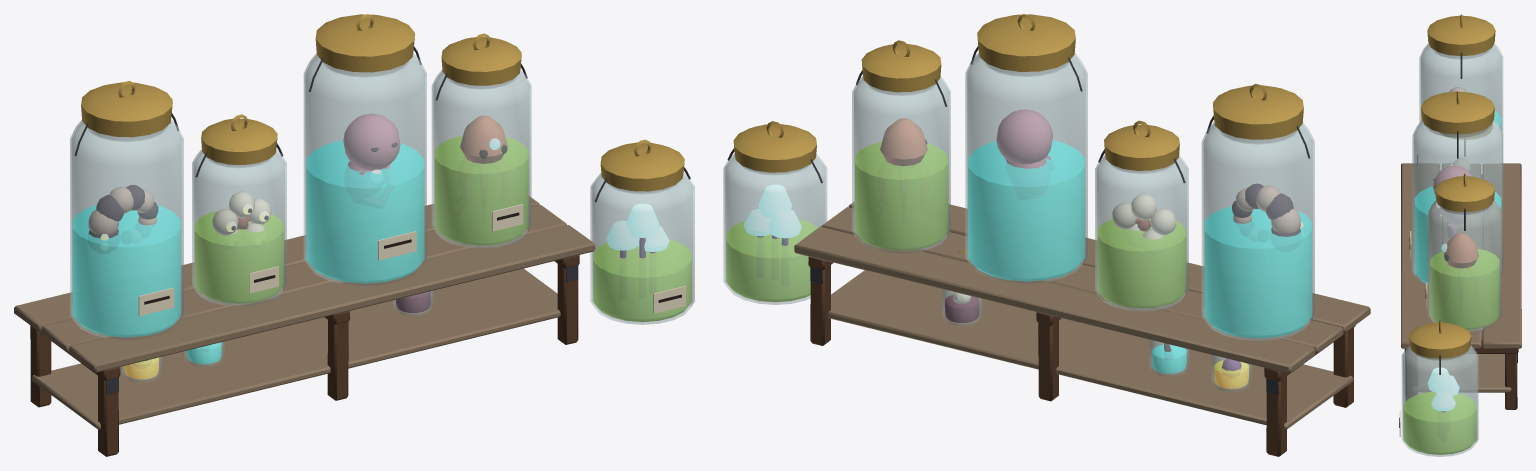
Rendered from deco_specimen_jars.fbx.
3 views of the same model, side by side, from view 1: azimuth 30°, elevation 25°; view 2: azimuth 150°, elevation 25°; view 3: azimuth 270°, elevation 25° (orthographic). The views are drawn at different scales.
Parts seen in each view (by area): view 1: SpecimenJars_Jars, SpecimenJars_Shelf, SpecimenJars_Liquids, SpecimenJars_Specimens; view 2: SpecimenJars_Jars, SpecimenJars_Shelf, SpecimenJars_Liquids, SpecimenJars_Specimens; view 3: SpecimenJars_Jars, SpecimenJars_Shelf, SpecimenJars_Liquids, SpecimenJars_Specimens.
Part boxes in pixels (x1,y1,x2,y2): SpecimenJars_Jars: [70, 14, 694, 382]; SpecimenJars_Shelf: [14, 196, 595, 456]; SpecimenJars_Liquids: [72, 135, 691, 379]; SpecimenJars_Specimens: [88, 113, 669, 360]; SpecimenJars_Jars: [723, 14, 1314, 391]; SpecimenJars_Shelf: [794, 201, 1370, 456]; SpecimenJars_Liquids: [726, 140, 1311, 388]; SpecimenJars_Specimens: [744, 109, 1303, 370]; SpecimenJars_Jars: [1399, 14, 1503, 456]; SpecimenJars_Shelf: [1401, 163, 1521, 409]; SpecimenJars_Liquids: [1403, 111, 1501, 454]; SpecimenJars_Specimens: [1428, 87, 1478, 412].
Bounding box in the file's own units: 298 × 158 × 69.08.
